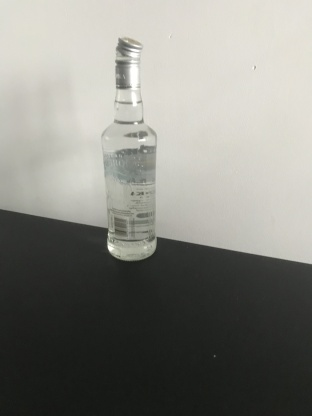nakretka: (113, 33, 144, 89)
